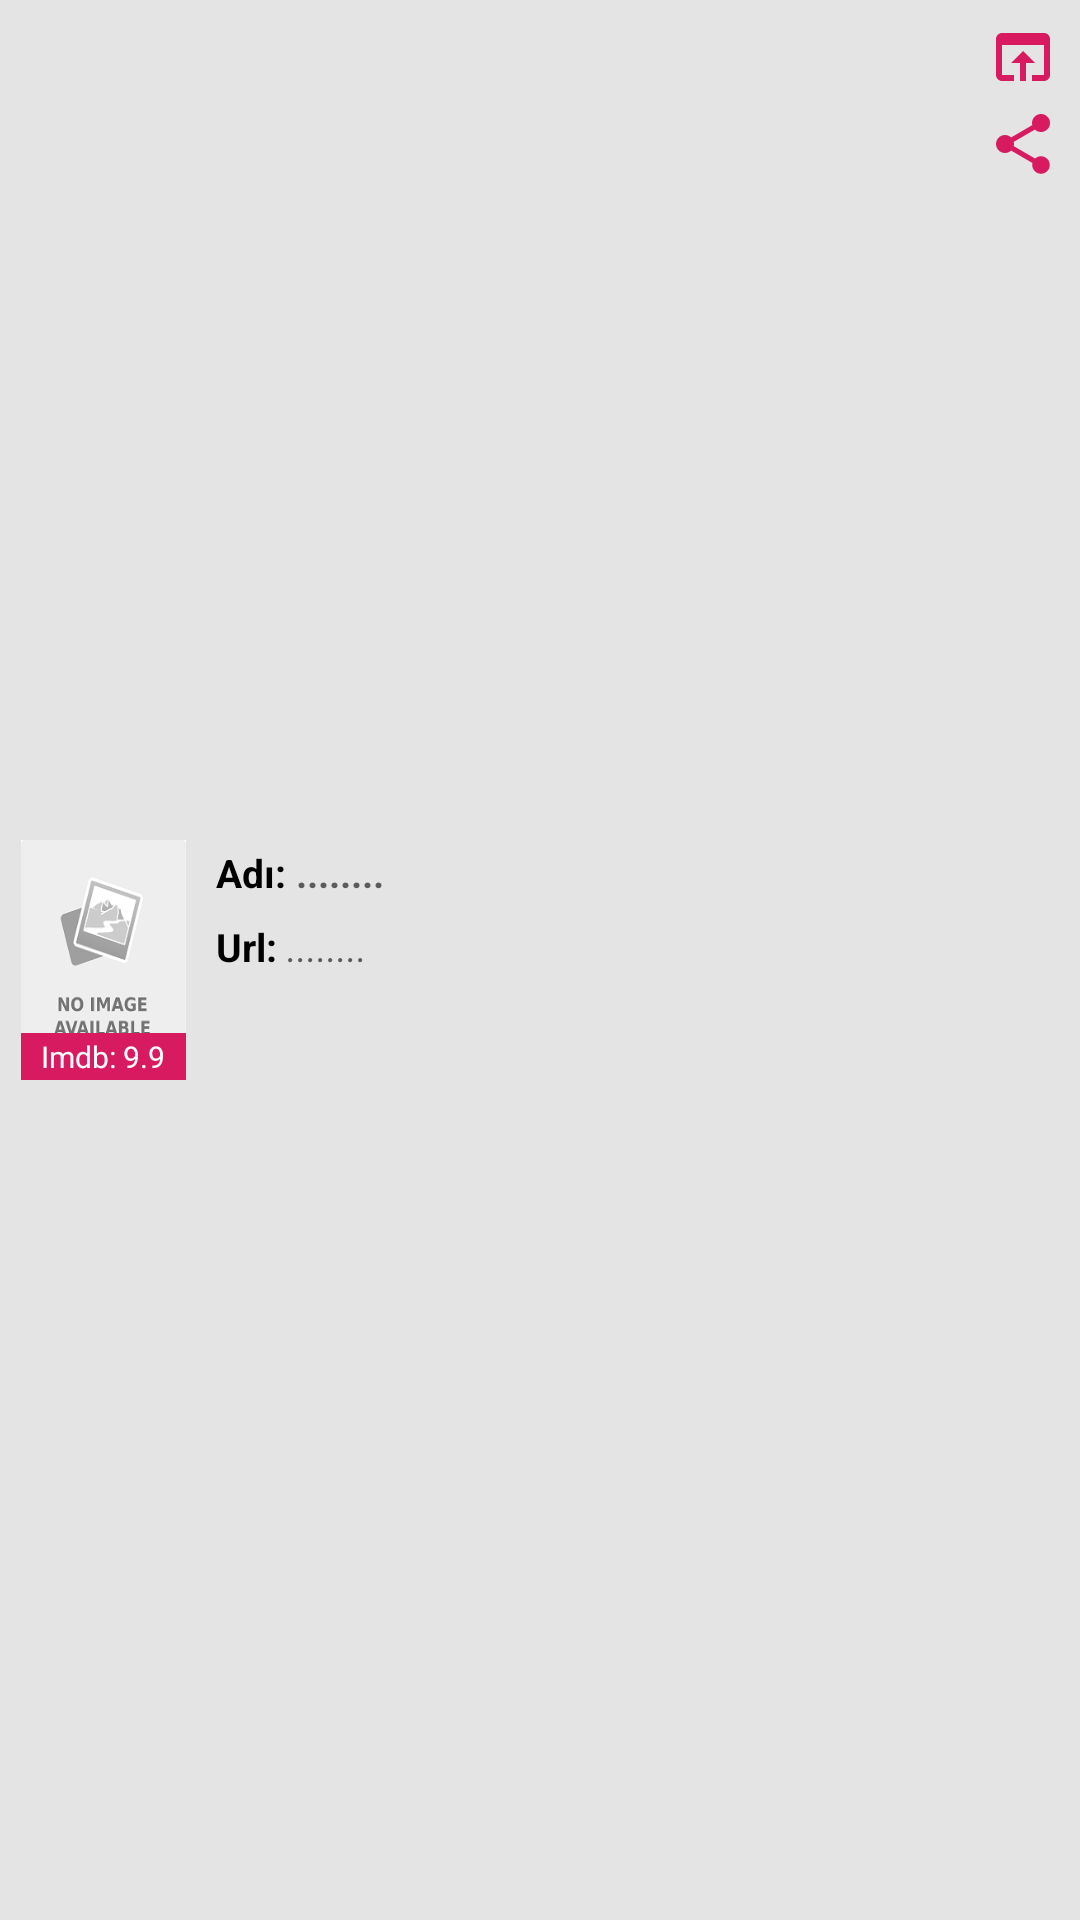

Where icons sit on this 1080*1920 app screen, as box=[x1, y1, x2, y2]:
open in browser: box=[996, 33, 1050, 81]
share: box=[996, 114, 1050, 174]
